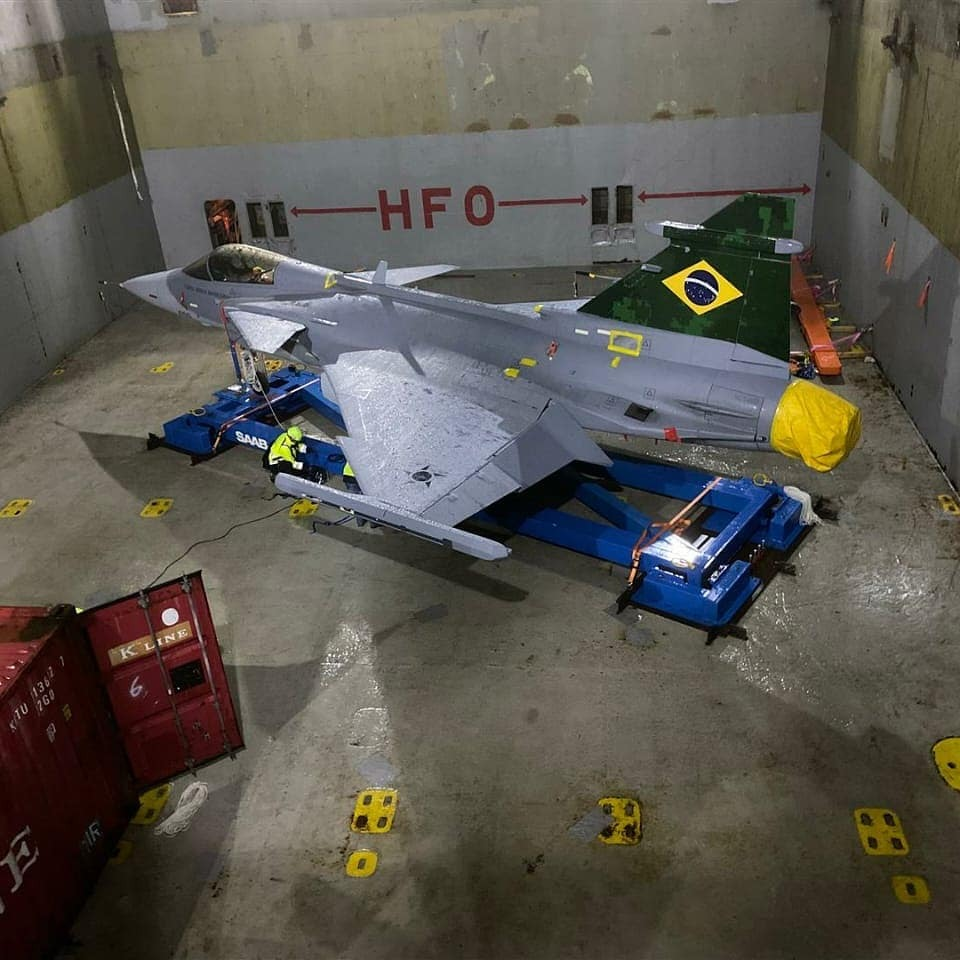JAS39: (97, 191, 862, 561)
